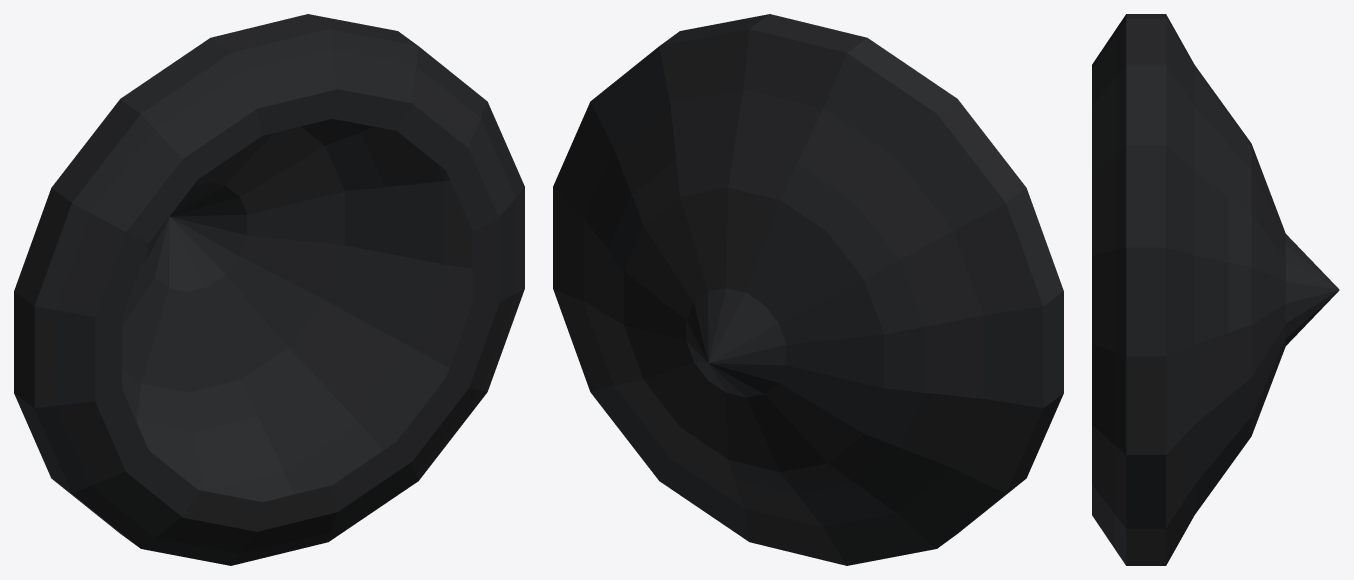
The model's file is decopole_labroadwayrose_cap_n.obj.
The picture shows the model from 3 angles, left to right: view 1: azimuth 30°, elevation 25°; view 2: azimuth 150°, elevation 25°; view 3: azimuth 270°, elevation 25°; orthographic projection. The views are drawn at different scales.
Parts seen in each view (by area): view 1: decopole_labroadwayrose_cap_n; view 2: decopole_labroadwayrose_cap_n; view 3: decopole_labroadwayrose_cap_n.
Boxes of the visible parts, left/top/right/bottom form: decopole_labroadwayrose_cap_n: left=14, top=14, right=524, bottom=565; decopole_labroadwayrose_cap_n: left=553, top=14, right=1063, bottom=565; decopole_labroadwayrose_cap_n: left=1092, top=14, right=1339, bottom=565.
Bounding box in the file's own units: 0.6007 × 0.6007 × 0.2719.
